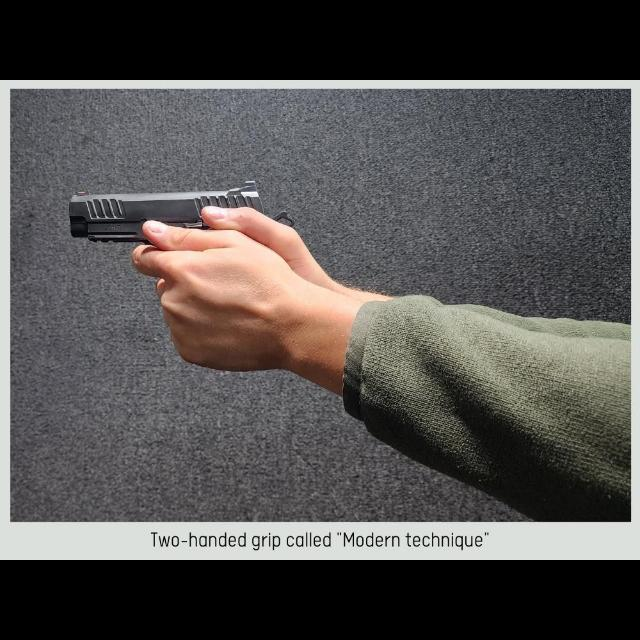handgun: (63, 177, 301, 269)
